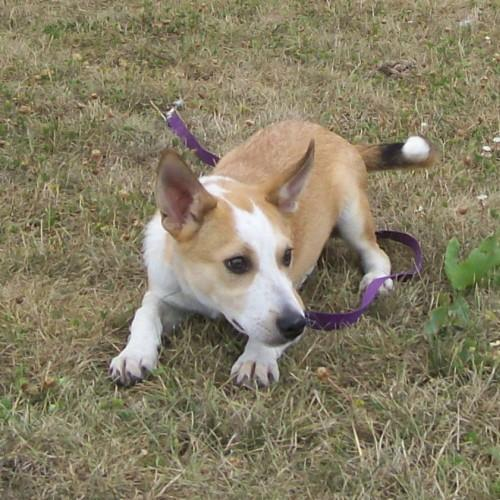Ibizan_hound: (101, 117, 433, 387)
